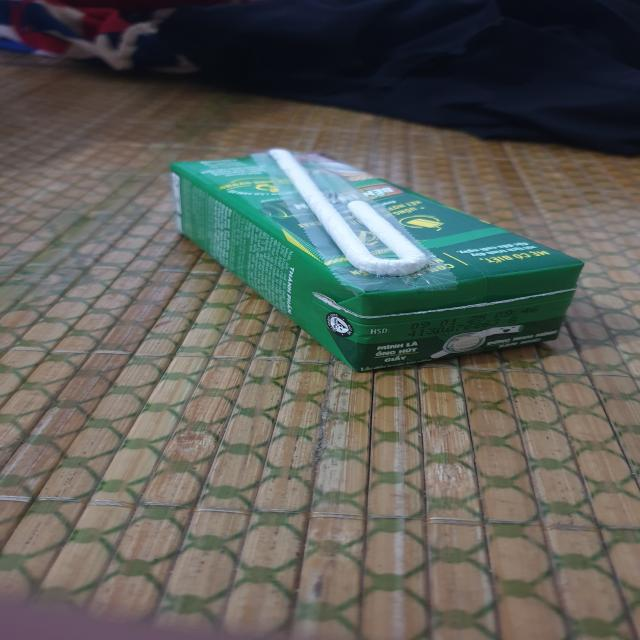Milo: (168, 148, 588, 375)
